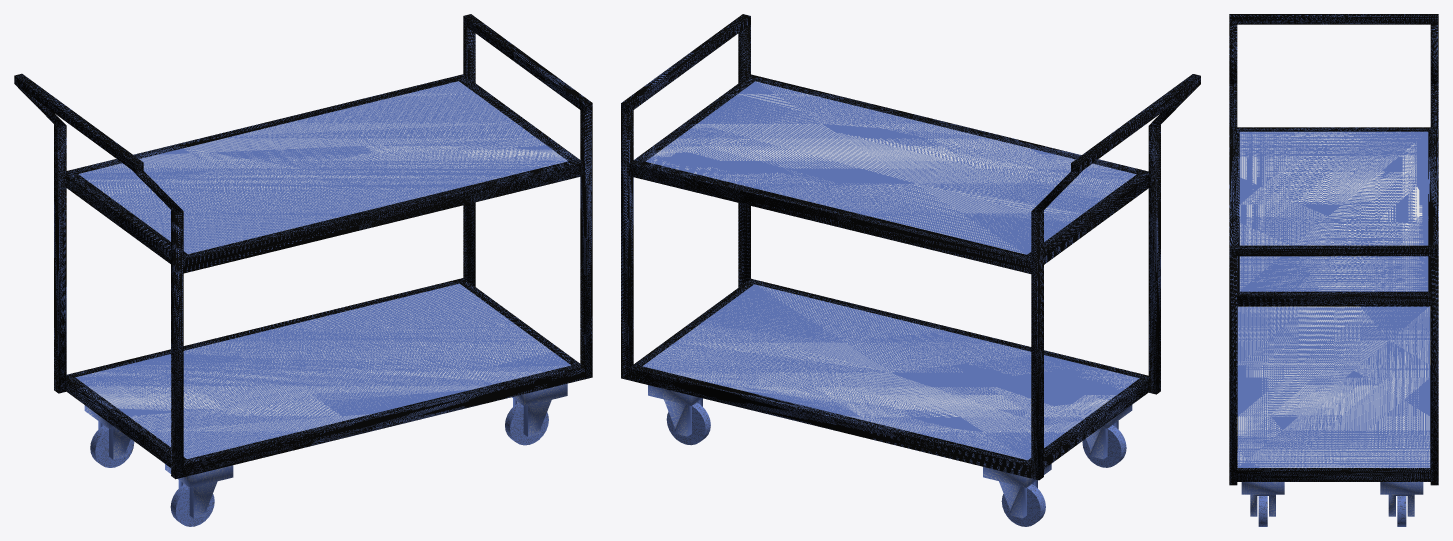
Rendered from serving_cart.fbx.
3 renders of one model, left to right at view 1: azimuth 30°, elevation 25°; view 2: azimuth 150°, elevation 25°; view 3: azimuth 270°, elevation 25°, orthographic. The views are drawn at different scales.
Parts seen in each view (by area): view 1: Group2, Group1, Component_48_1, Component_48_2, Component_48_4, roue4, roue1, barre_centrale1, barre_centrale2, Component_48_3, roue3; view 2: Group2, Group1, Component_48_1, Component_48_2, Component_48_3, roue3, roue2, barre_centrale1, barre_centrale2, Component_48_4, roue4; view 3: Group2, Group1, barre_centrale2, barre_centrale1, Component_48_3, Component_48_4, roue2, roue1, Component_49_1, Component_49_2, Component_48_1, Component_48_2.
Boxes of the visible parts, x1,y1,x2,y2 form: Group2: (66,74,584,273); Group1: (66,278,584,476); Component_48_1: (54,124,66,393); Component_48_2: (171,210,183,479); Component_48_4: (580,110,592,379); roue4: (165,464,233,526); roue1: (505,383,567,445); barre_centrale1: (14,73,143,172); barre_centrale2: (463,14,592,112); Component_48_3: (463,24,475,286); roue3: (84,405,134,467); Group2: (629,74,1148,273); Group1: (629,278,1148,478); Component_48_1: (1031,210,1043,480); Component_48_2: (1148,125,1160,394); Component_48_3: (621,110,633,380); roue3: (983,464,1051,526); roue2: (648,385,710,445); barre_centrale1: (1071,74,1200,172); barre_centrale2: (621,14,750,113); Component_48_4: (738,24,750,287); roue4: (1082,405,1132,467); Group2: (1229,127,1438,306); Group1: (1237,306,1430,481); barre_centrale2: (1229,245,1438,256); barre_centrale1: (1229,14,1438,24); Component_48_3: (1430,256,1438,485); Component_48_4: (1229,256,1237,485); roue2: (1380,482,1423,526); roue1: (1241,482,1284,526); Component_49_1: (1229,24,1237,84); Component_49_2: (1430,24,1438,84); Component_48_1: (1430,84,1438,127); Component_48_2: (1229,84,1237,127).
Bounding box in the file's own units: 115 × 94.55 × 53.
